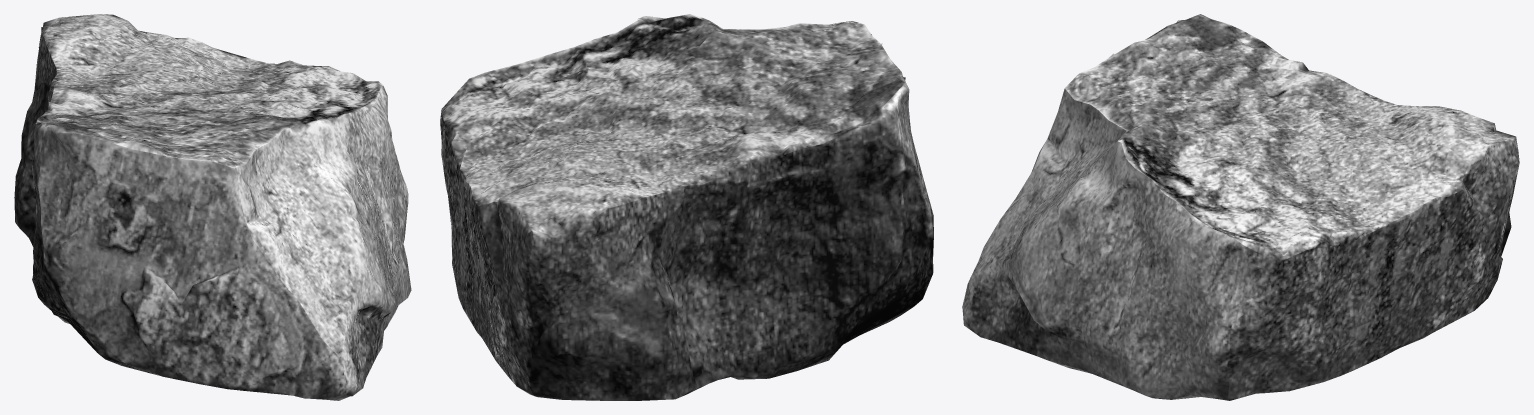
File: rock1.glb
The picture shows the model from 3 angles, left to right: view 1: azimuth 30°, elevation 25°; view 2: azimuth 150°, elevation 25°; view 3: azimuth 270°, elevation 25°; orthographic projection. The views are drawn at different scales.
Parts seen in each view (by area): view 1: boulder_03_LOD0; view 2: boulder_03_LOD0; view 3: boulder_03_LOD0.
Part boxes in pixels (x1,y1,x2,y2): boulder_03_LOD0: (14,14,411,400); boulder_03_LOD0: (440,14,933,400); boulder_03_LOD0: (962,14,1519,400).
Size of the model in its own units: 2.35 by 1.4 by 3.
1 material, 1 textured.
